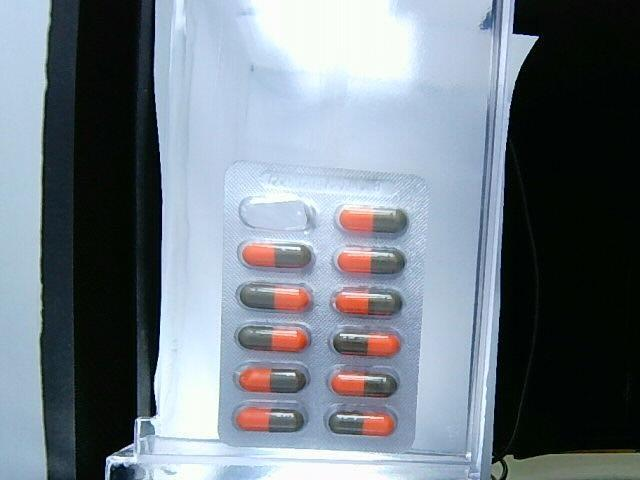Light Front: (218, 161, 432, 457)
No Pill Front: (240, 194, 315, 230)
Pill Front: (239, 284, 311, 312), (334, 246, 405, 274), (239, 243, 314, 269), (238, 325, 309, 351), (333, 288, 403, 314), (238, 366, 306, 391), (235, 406, 303, 431), (339, 206, 407, 231), (330, 371, 397, 396), (333, 331, 400, 355), (329, 411, 395, 435)
